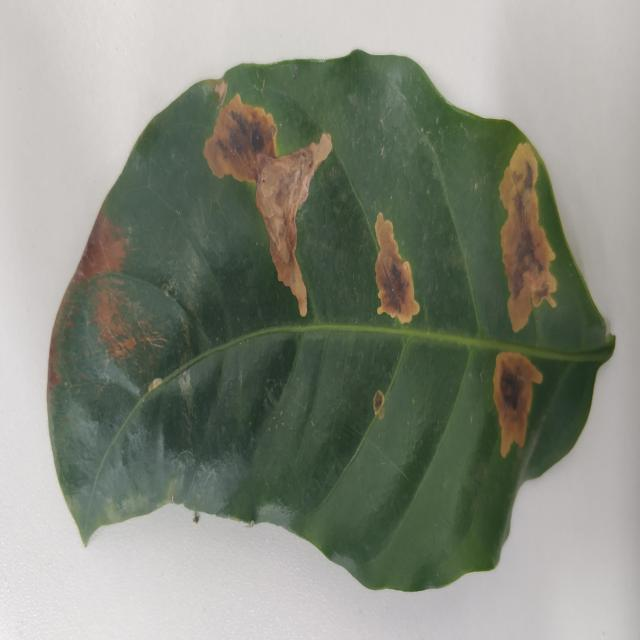Plaga-Minador: (45, 51, 617, 596)
